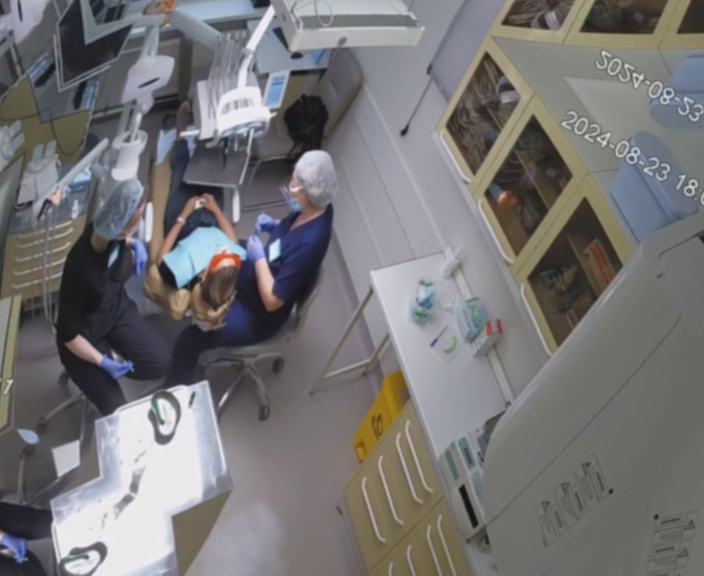Patient: (79, 107, 304, 341)
